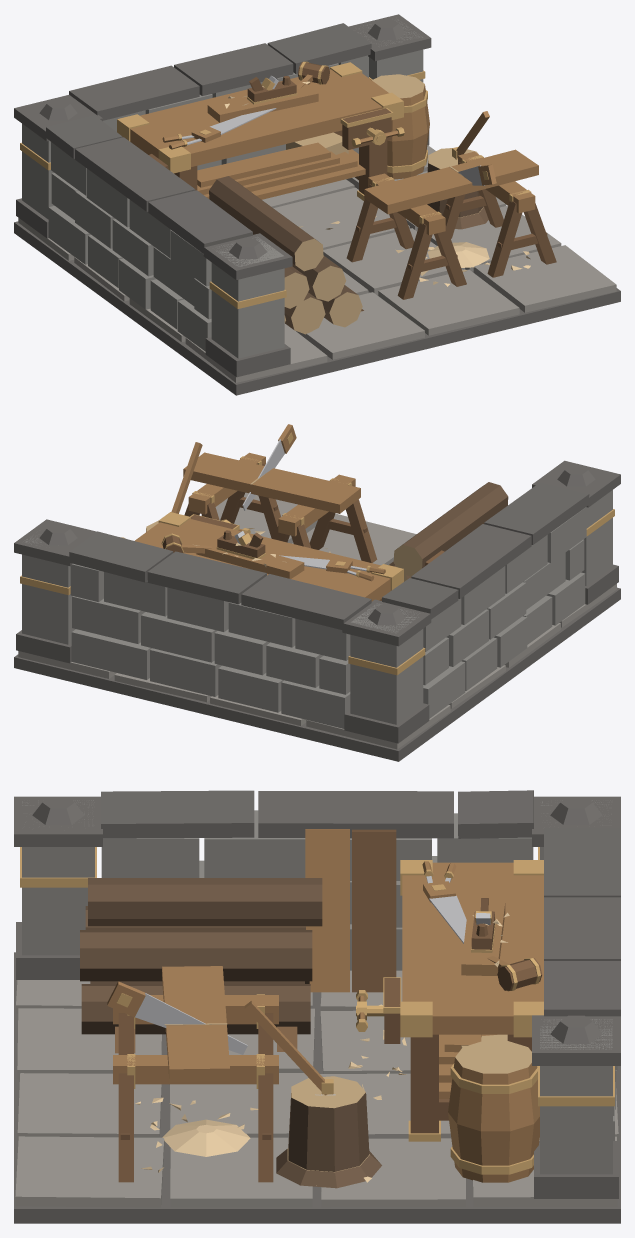
Rendered from carpenter.glb.
3 views of the same model, one above another, from view 1: azimuth 30°, elevation 25°; view 2: azimuth 150°, elevation 25°; view 3: azimuth 270°, elevation 25° (orthographic). The views are drawn at different scales.
Visible parts, largest first — view 1: floor, wall_left, workbench, wall_back, pillar_front_left, sawhorse_left, shelf_planks, pillar_back_left, sawhorse_right, sawing_plank, log_06, barrel (+13 smaller); view 2: wall_back, wall_left, floor, pillar_back_left, pillar_back_right, workbench, sawing_plank, pillar_front_left, log_06, sawhorse_left, sawhorse_right, workpiece_plank (+5 smaller); view 3: floor, wall_left, workbench, pillar_back_right, wall_back, pillar_front_left, leaning_planks, barrel, log_06, log_05, chopping_stump, sawing_plank (+15 smaller).
Part boxes in pixels (bbox=[...]): floor: bbox=[14, 145, 620, 395]; wall_left: bbox=[45, 115, 252, 351]; workbench: bbox=[117, 62, 403, 200]; wall_back: bbox=[69, 23, 371, 170]; pillar_front_left: bbox=[203, 233, 292, 377]; sawhorse_left: bbox=[346, 173, 466, 299]; shelf_planks: bbox=[197, 132, 357, 198]; pillar_back_left: bbox=[14, 95, 102, 238]; sawhorse_right: bbox=[442, 151, 556, 277]; sawing_plank: bbox=[364, 149, 538, 214]; log_06: bbox=[209, 176, 323, 271]; barrel: bbox=[372, 74, 429, 179]; wall_back: bbox=[69, 531, 371, 728]; wall_left: bbox=[382, 482, 589, 718]; floor: bbox=[14, 492, 620, 761]; pillar_back_left: bbox=[342, 599, 431, 743]; pillar_back_right: bbox=[14, 519, 96, 663]; workbench: bbox=[135, 512, 403, 601]; sawing_plank: bbox=[183, 452, 360, 513]; pillar_front_left: bbox=[532, 460, 620, 604]; log_06: bbox=[393, 482, 508, 576]; sawhorse_left: bbox=[273, 474, 377, 562]; sawhorse_right: bbox=[184, 452, 280, 538]; workpiece_plank: bbox=[196, 537, 304, 578]; floor: bbox=[14, 952, 620, 1223]; wall_left: bbox=[101, 790, 533, 970]; workbench: bbox=[400, 860, 543, 1141]; pillar_back_right: bbox=[532, 1015, 620, 1198]; wall_back: bbox=[544, 828, 620, 1140]; pillar_front_left: bbox=[14, 796, 102, 979]; leaning_planks: bbox=[305, 829, 396, 992]; barrel: bbox=[448, 1041, 539, 1182]; log_06: bbox=[88, 878, 322, 926]; log_05: bbox=[80, 930, 312, 981]; chopping_stump: bbox=[276, 1076, 381, 1188]; sawing_plank: bbox=[162, 966, 229, 1082].
Size of what is drawn, in the model's own units: 3 by 1.08 by 3.
